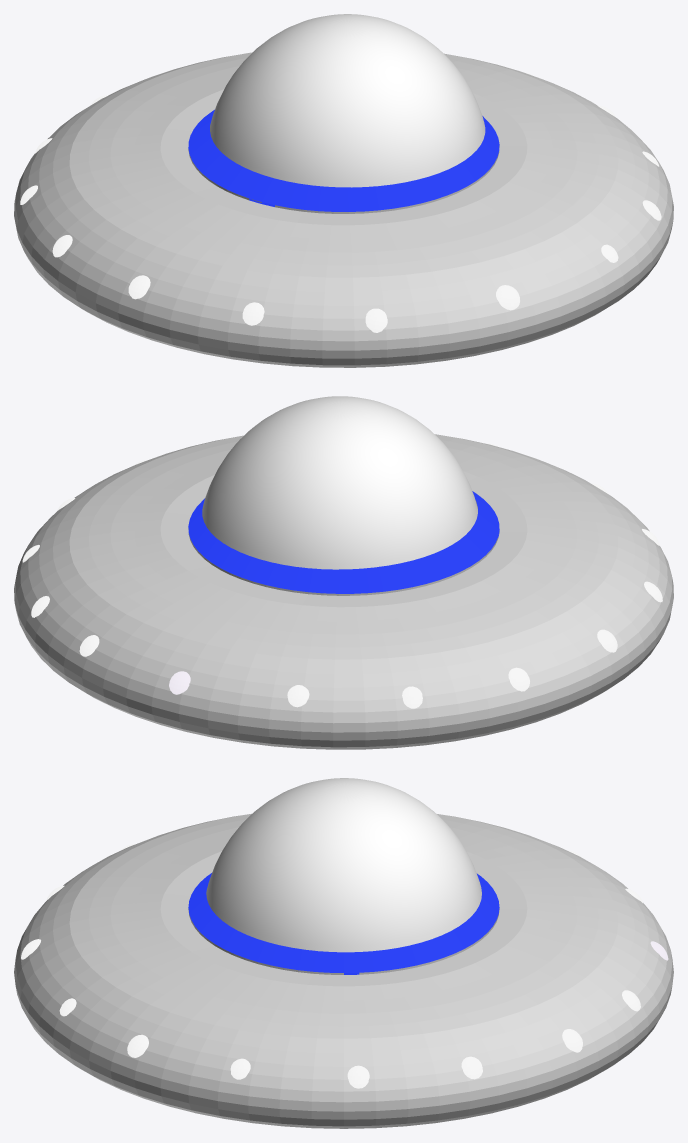
Rendered from Ufo.glb.
3 renders of one model, top to bottom at view 1: azimuth 30°, elevation 25°; view 2: azimuth 150°, elevation 25°; view 3: azimuth 270°, elevation 25°, orthographic.
Visible parts, largest first — view 1: Sphere, Sphere.001; view 2: Sphere, Sphere.001; view 3: Sphere, Sphere.001.
Part boxes in pixels (bbox=[...]): Sphere: bbox=[14, 52, 673, 367]; Sphere.001: bbox=[210, 14, 485, 187]; Sphere: bbox=[14, 434, 673, 749]; Sphere.001: bbox=[202, 396, 477, 569]; Sphere: bbox=[14, 813, 673, 1128]; Sphere.001: bbox=[206, 778, 481, 952].
Size of the model in its own units: 6.68 by 2.31 by 6.68.
